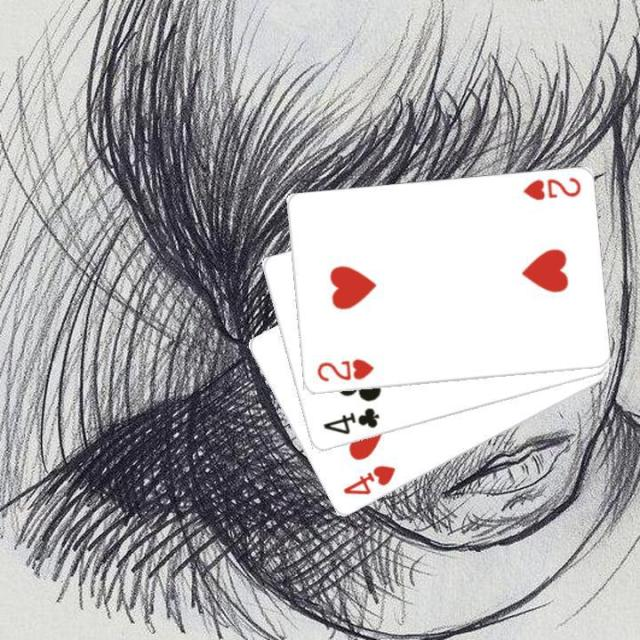2H: (518, 174, 582, 203), (312, 356, 375, 384)
4C: (318, 403, 382, 438)
4H: (339, 461, 397, 498)
